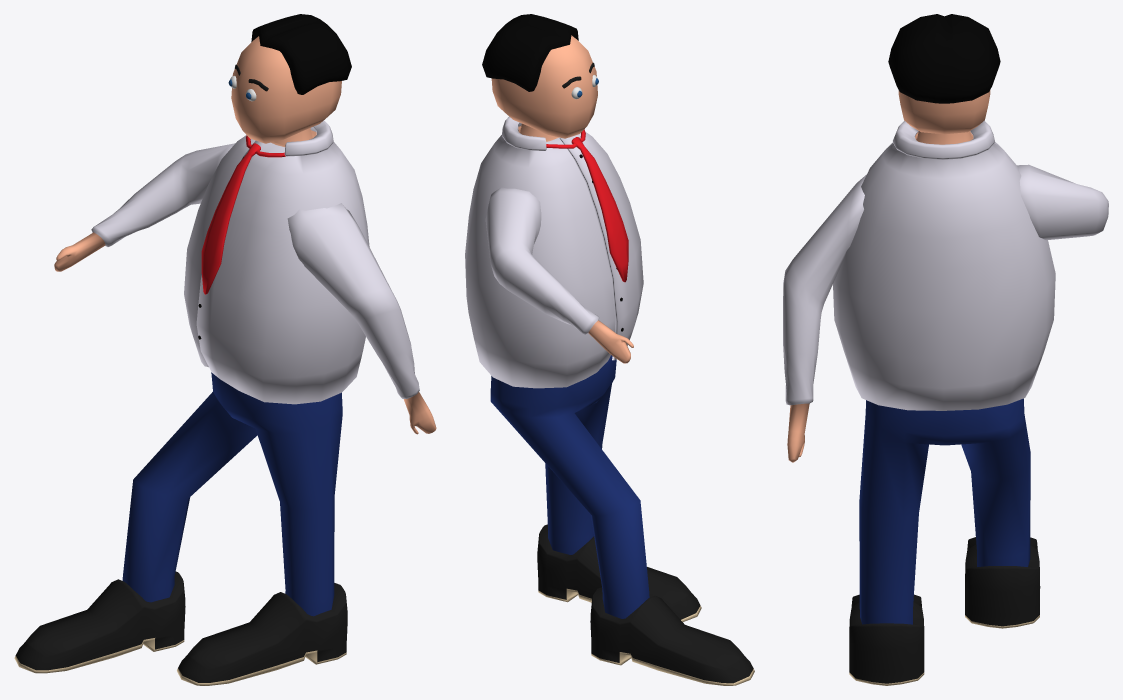
File: karackter_model_pose_3.fbx
3 renders of one model, left to right at view 1: azimuth 30°, elevation 25°; view 2: azimuth 150°, elevation 25°; view 3: azimuth 270°, elevation 25°, orthographic. The views are drawn at different scales.
Visible parts, largest first — view 1: Cube.103, Cube.102, Cube.109, Cube.108, Cube.106, Cube.100, Cube.107, Cube.104, Cube.101; view 2: Cube.103, Cube.102, Cube.106, Cube.107, Cube.100, Cube.108, Cube.104, Cube.101; view 3: Cube.103, Cube.102, Cube.109, Cube.104, Cube.108, Cube.106, Cube.107, Cube.100, Cube.099.
Part boxes in pixels (x1,y1,x2,y2): Cube.103: (184, 120, 369, 404); Cube.102: (122, 372, 342, 616); Cube.109: (287, 203, 436, 434); Cube.108: (177, 583, 347, 685); Cube.106: (14, 571, 185, 673); Cube.100: (231, 36, 341, 143); Cube.107: (54, 143, 234, 271); Cube.104: (251, 14, 351, 94); Cube.101: (201, 143, 260, 294); Cube.103: (465, 116, 643, 388); Cube.102: (490, 355, 649, 618); Cube.106: (590, 587, 754, 685); Cube.107: (485, 187, 633, 363); Cube.100: (491, 35, 597, 138); Cube.108: (537, 524, 701, 621); Cube.104: (482, 14, 578, 91); Cube.101: (571, 137, 628, 282); Cube.103: (833, 120, 1055, 410); Cube.102: (859, 398, 1030, 624); Cube.109: (783, 174, 866, 462); Cube.104: (888, 14, 1000, 103); Cube.108: (849, 594, 924, 685); Cube.106: (965, 537, 1040, 628); Cube.107: (1017, 164, 1108, 240); Cube.100: (898, 90, 990, 134); Cube.099: (915, 131, 973, 144).
Size of the model in its own units: 405 by 730 by 331.
